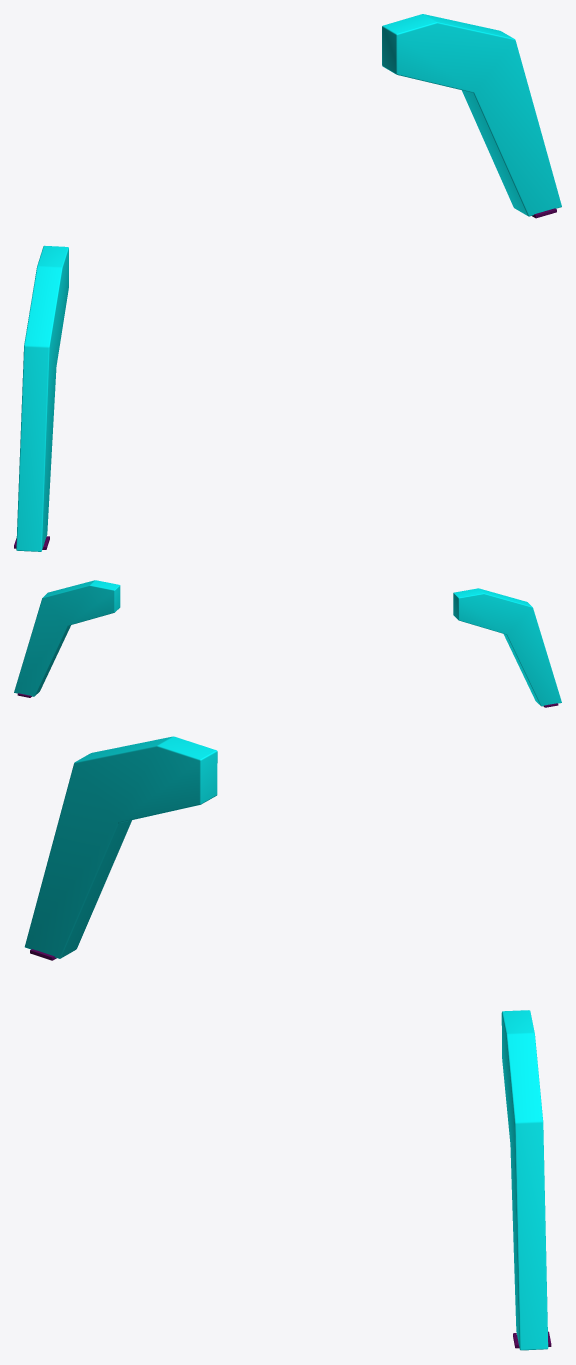
The model's file is levante_leg_longchair.gltf.
3 renders of one model, top to bottom at view 1: azimuth 30°, elevation 25°; view 2: azimuth 150°, elevation 25°; view 3: azimuth 270°, elevation 25°, orthographic. The views are drawn at different scales.
Parts seen in each view (by area): view 1: leg_longchair; view 2: leg_longchair; view 3: leg_longchair.
Part boxes in pixels (x1,y1,x2,y2): leg_longchair: [14, 14, 561, 551]; leg_longchair: [14, 580, 561, 707]; leg_longchair: [24, 736, 551, 1350].
Size of the model in its own units: 0.8438 by 0.2361 by 0.4552.
